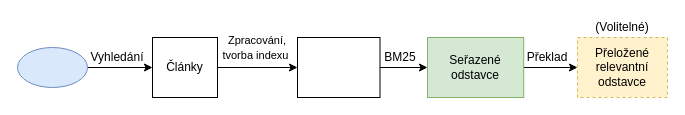
This 685x115 diagram has some shape labels left out. Each missing label, with the centre of its shape:
"Odstavce" belongs at [338,67].
"Otázka" belongs at [52,67].
